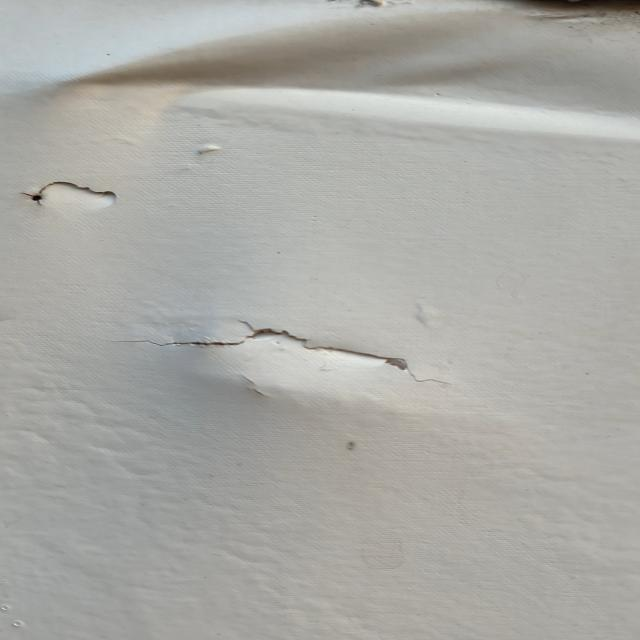Dents or Deformation: (84, 24, 640, 133)
Scratches: (120, 298, 483, 392), (1, 174, 173, 228)
